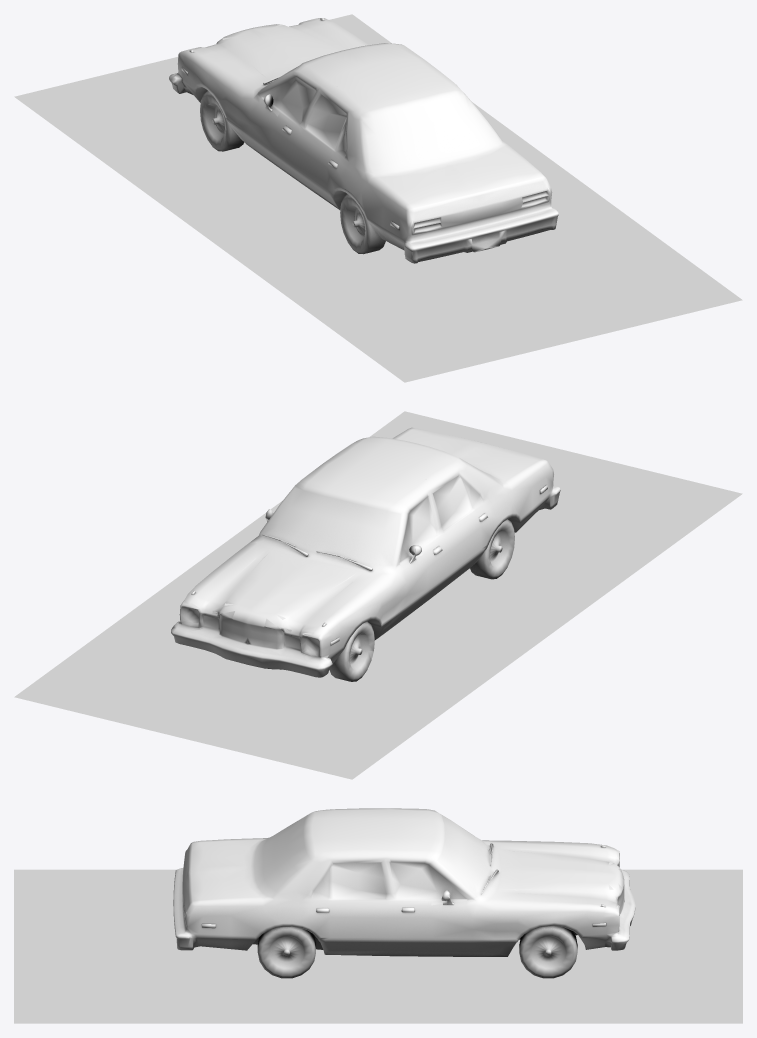
The model's file is plymouth.FBX.
3 renders of one model, top to bottom at view 1: azimuth 30°, elevation 25°; view 2: azimuth 150°, elevation 25°; view 3: azimuth 270°, elevation 25°, orthographic. The views are drawn at different scales.
Visible parts, largest first — view 1: Plane001, Object002; view 2: Plane001, Object002; view 3: Plane001, Object002.
Boxes of the visible parts, left/top/right/bottom form: Plane001: left=14, top=14, right=742, bottom=382; Object002: left=169, top=18, right=558, bottom=263; Plane001: left=14, top=411, right=742, bottom=779; Object002: left=171, top=427, right=560, bottom=681; Plane001: left=14, top=869, right=742, bottom=1023; Object002: left=173, top=808, right=635, bottom=978.
Size of the model in its own units: 3989 by 1429 by 7978.
